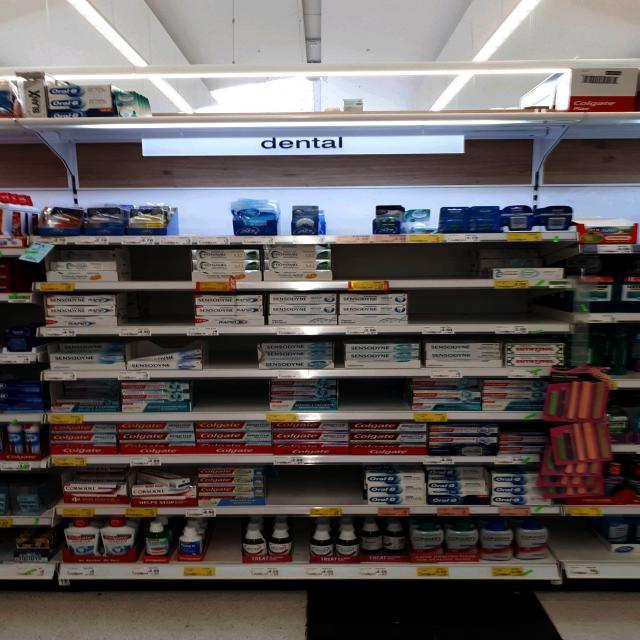empty_space: (332, 246, 470, 280), (263, 465, 363, 505), (413, 295, 527, 319), (196, 379, 266, 409), (340, 381, 408, 411), (134, 249, 194, 283), (549, 522, 597, 562), (136, 294, 192, 324), (210, 521, 242, 559), (177, 210, 231, 232), (326, 213, 370, 235)
